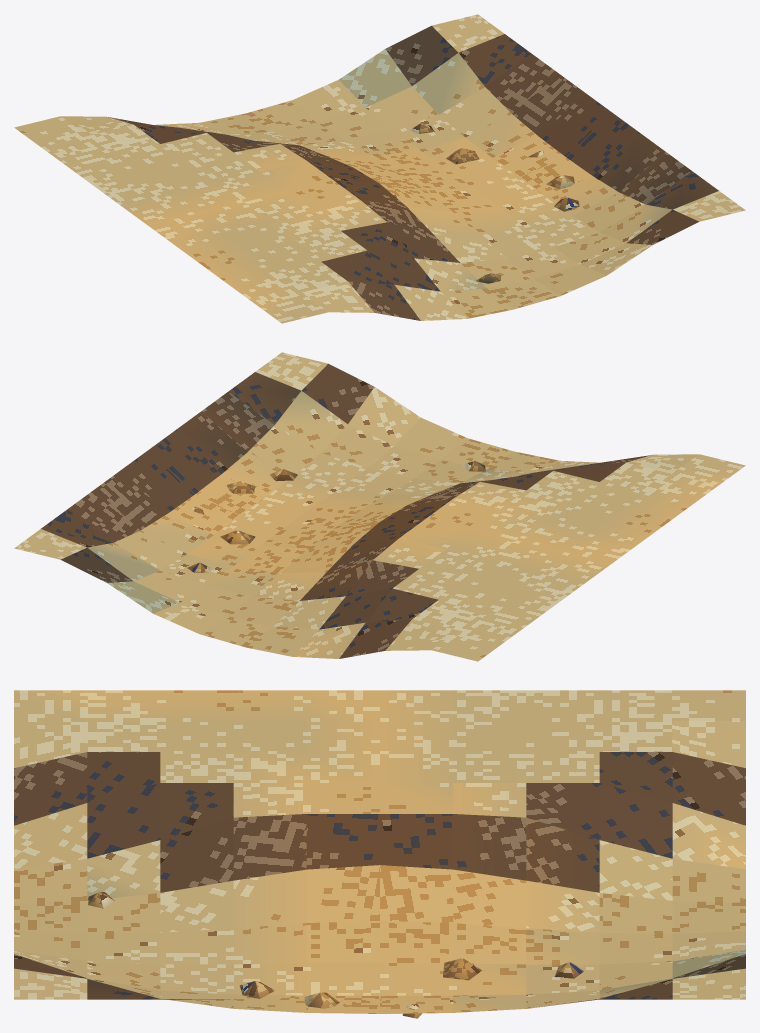
File: wland.riverbed__bend.glb
3 renders of one model, top to bottom at view 1: azimuth 30°, elevation 25°; view 2: azimuth 150°, elevation 25°; view 3: azimuth 270°, elevation 25°, orthographic. The views are drawn at different scales.
Parts seen in each view (by area): view 1: kit_shell_ground, kit_stones; view 2: kit_shell_ground, kit_stones; view 3: kit_shell_ground, kit_stones.
Part boxes in pixels (x1,y1,x2,y2): kit_shell_ground: (14, 14, 745, 323); kit_stones: (409, 123, 579, 283); kit_shell_ground: (14, 352, 745, 661); kit_stones: (187, 460, 485, 572); kit_shell_ground: (14, 690, 745, 1013); kit_stones: (88, 892, 583, 1018).
Bounding box in the file's own units: 8 × 0.7 × 8.
4 materials, 4 textured.
